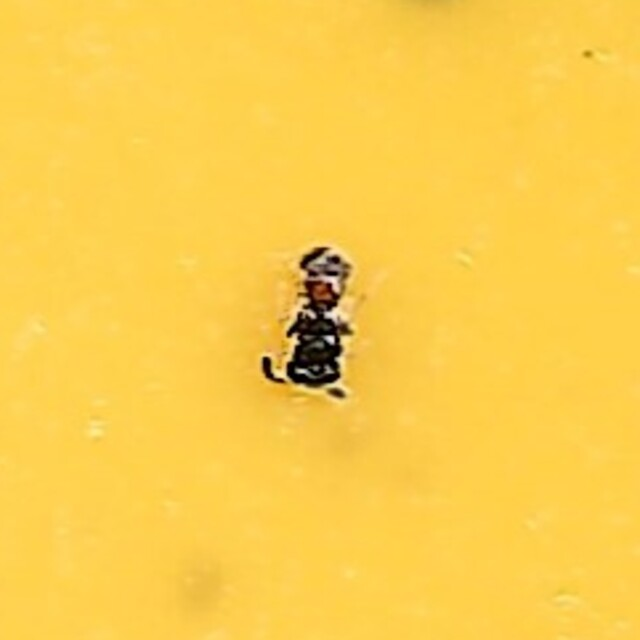Hemiptera: (266, 238, 374, 402)
